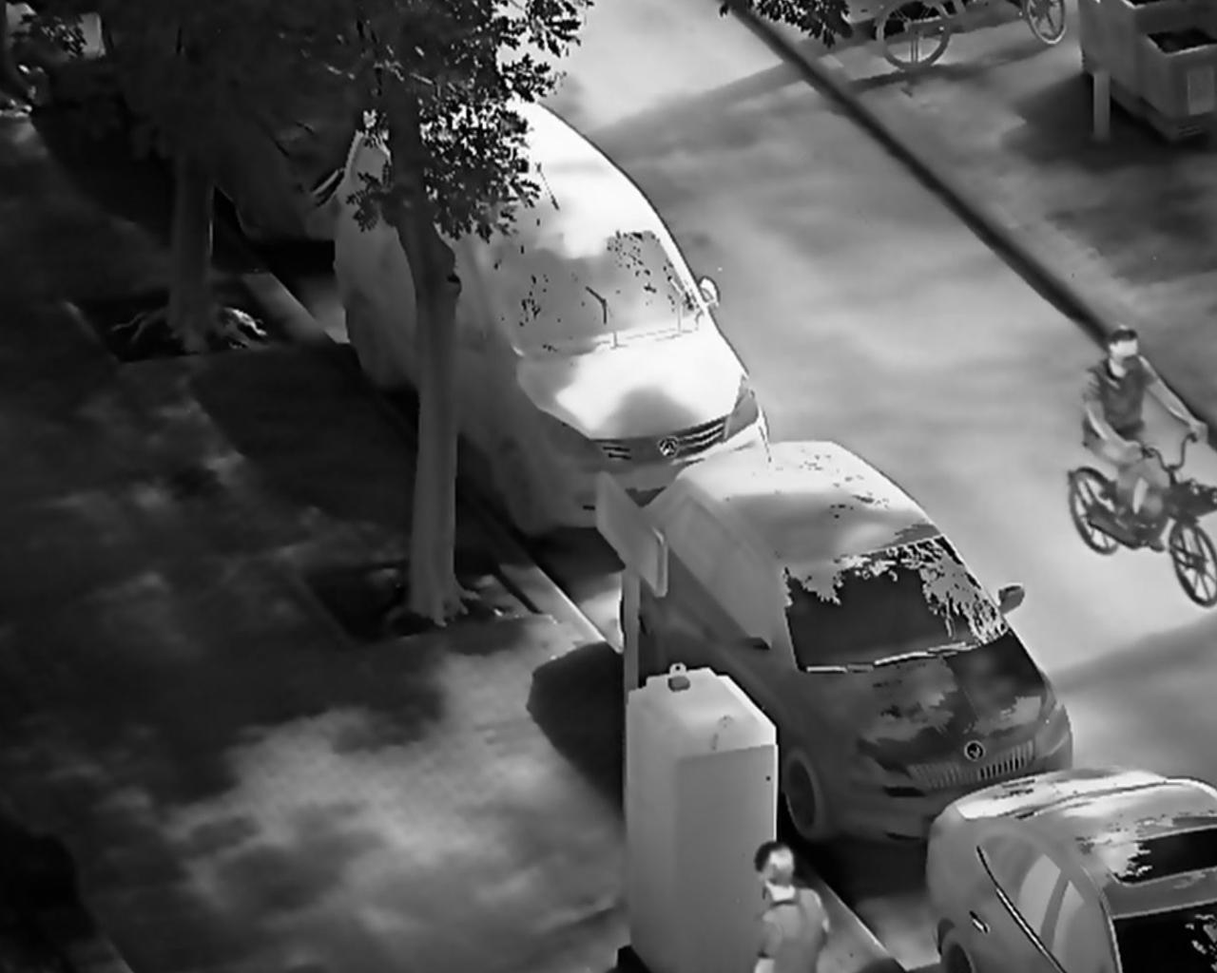person: (1078, 324, 1208, 544)
